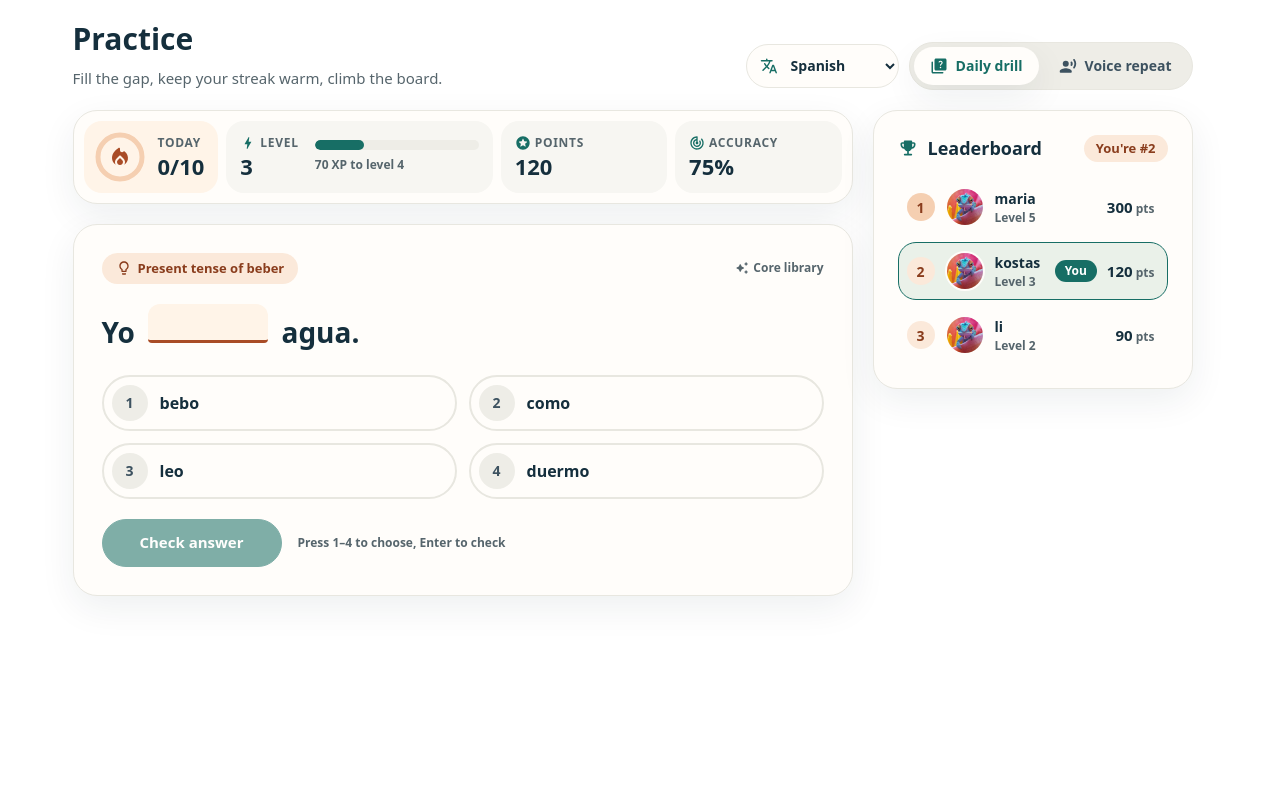
Test: PracticePage › correct answer shows XP gained, counts toward today and moves focus to Next
Check: the text "Present tense of beber" is shown, box [102, 252, 298, 284]
Click the button "1 bebo": (130,403) [102, 375, 456, 431]
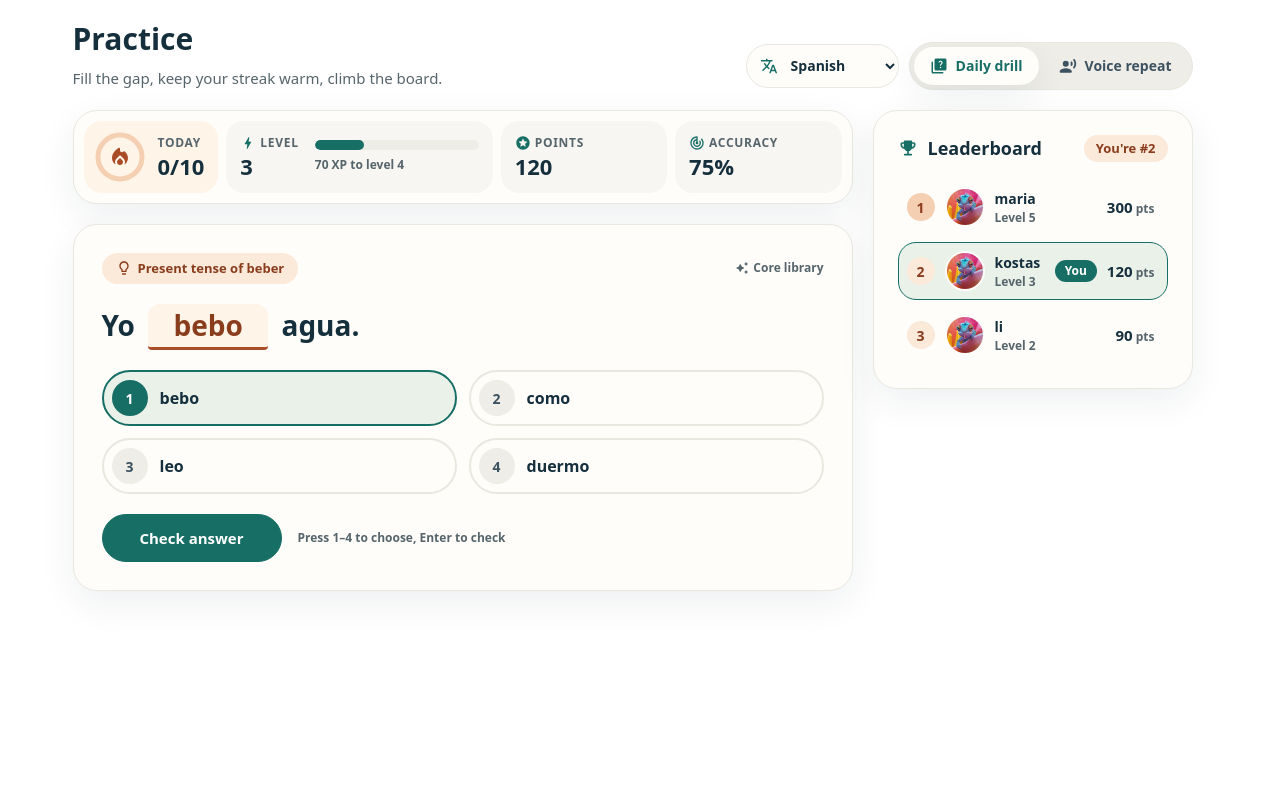
Click the button "Check answer": (192,538) [102, 514, 282, 562]
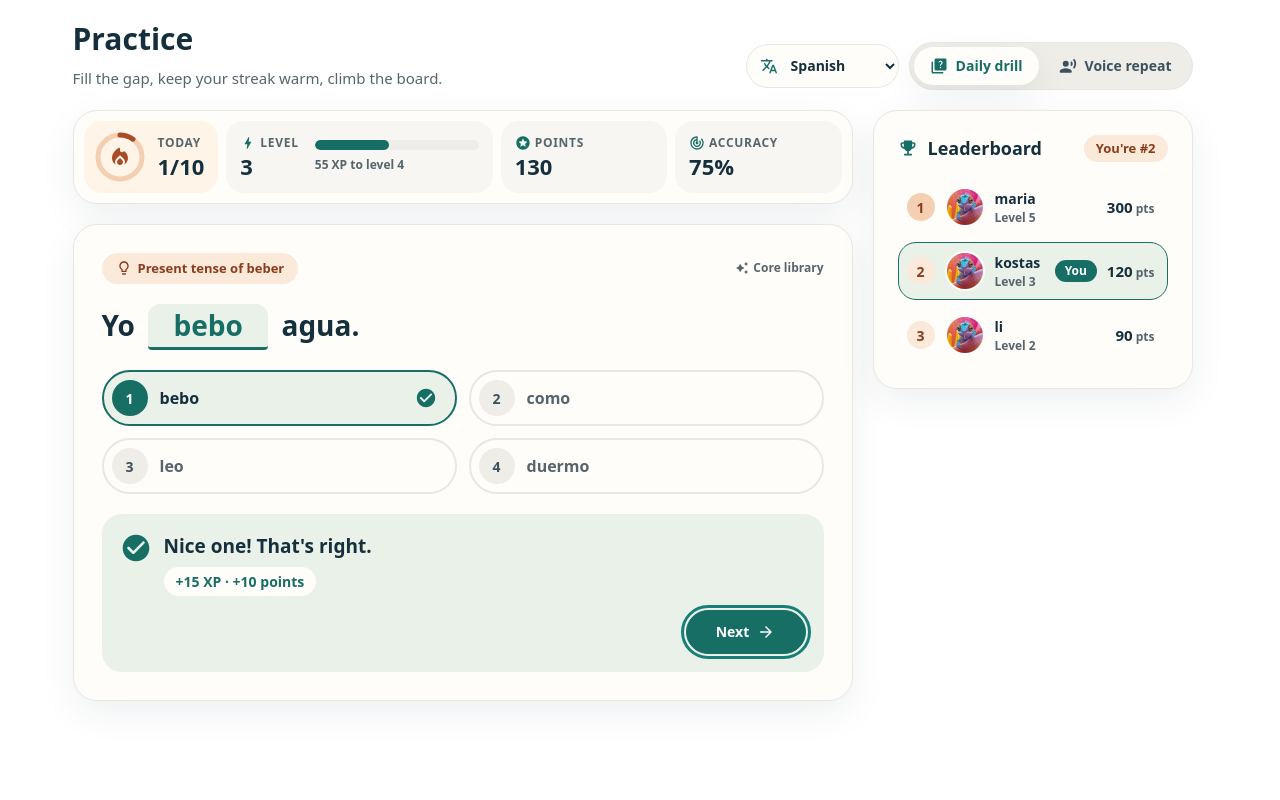
Check: the text "Nice one! That's right." is shown, box [164, 532, 372, 561]
Check: the text "+15 XP · +10 points" is shown, box [164, 567, 316, 596]
Check: the text "1/10" is shown, box [158, 154, 204, 179]
